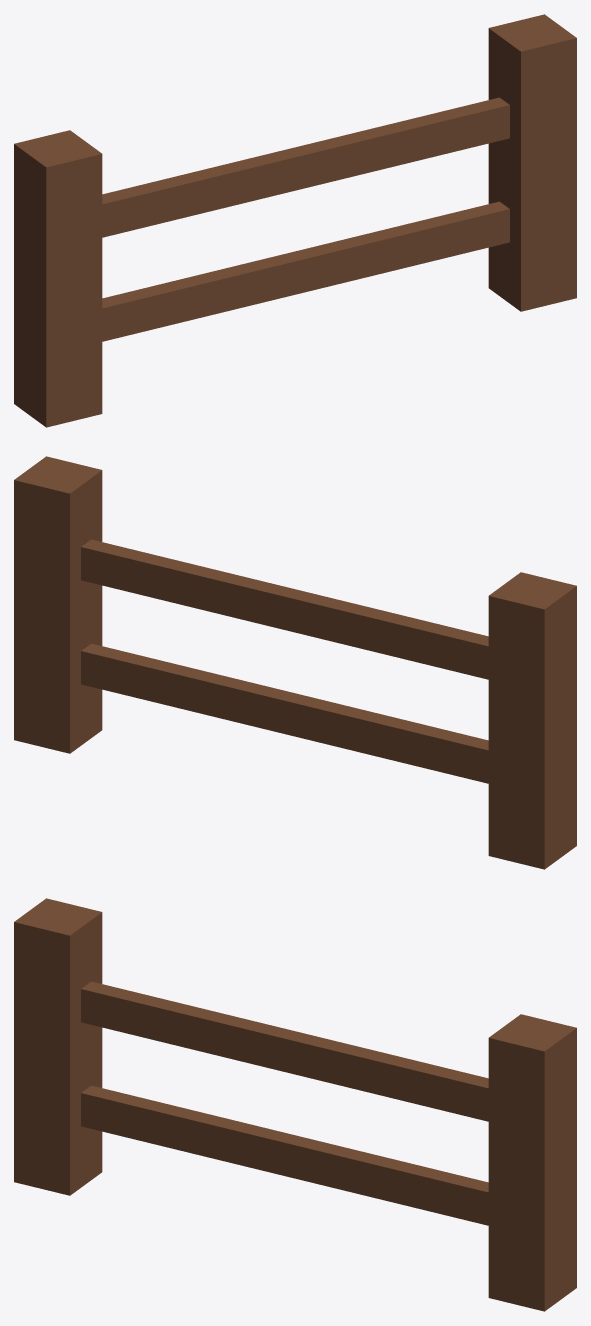
File: DoubleFence.fbx
3 views of the same model, one above another, from view 1: azimuth 30°, elevation 25°; view 2: azimuth 150°, elevation 25°; view 3: azimuth 330°, elevation 25° (orthographic).
Visible parts, largest first — view 1: DoubleFence; view 2: DoubleFence; view 3: DoubleFence.
Part boxes in pixels (box(x1,y1,x2,y2)): DoubleFence: box(14, 14, 576, 427); DoubleFence: box(14, 456, 576, 869); DoubleFence: box(14, 898, 576, 1311).
Size of the model in its own units: 204 by 95.64 by 21.57.
